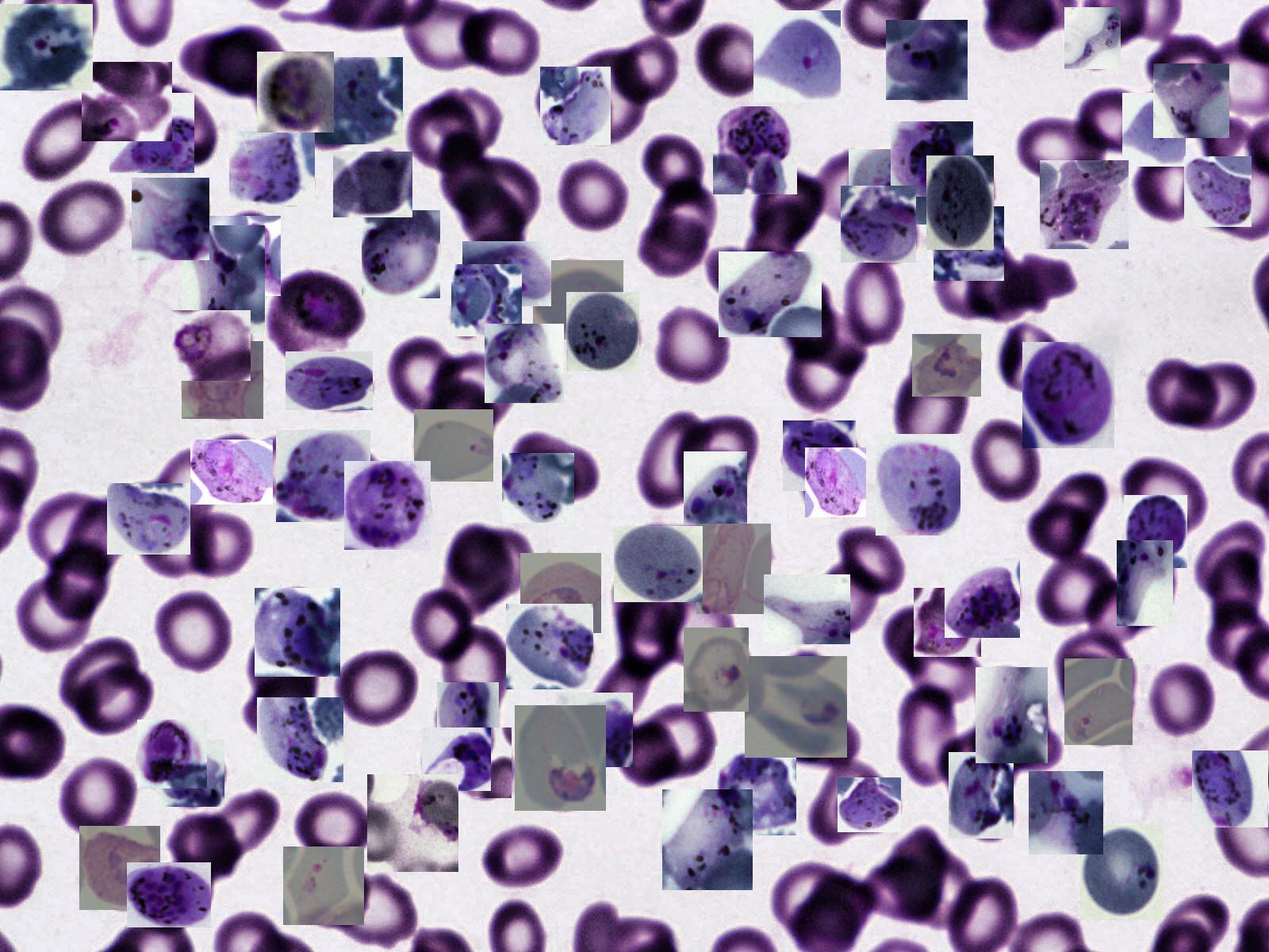Infected: (745, 656, 847, 758), (1022, 342, 1114, 448), (264, 267, 362, 366), (515, 705, 606, 811), (662, 789, 753, 890), (182, 225, 265, 333), (367, 774, 458, 872), (719, 251, 822, 337), (276, 430, 370, 522), (876, 434, 960, 536), (753, 11, 841, 102), (0, 4, 93, 90), (1080, 825, 1164, 920), (1040, 160, 1129, 249), (344, 461, 431, 550), (316, 57, 403, 144), (255, 588, 340, 677), (506, 604, 593, 689), (713, 106, 797, 194), (257, 697, 343, 782), (533, 260, 623, 340), (716, 747, 797, 835), (82, 62, 172, 141), (976, 667, 1048, 763), (362, 210, 440, 298), (79, 826, 160, 910), (109, 93, 194, 173), (614, 526, 703, 602), (696, 524, 771, 614), (886, 20, 968, 100), (520, 553, 601, 633), (926, 155, 994, 250), (283, 846, 364, 925), (229, 131, 315, 205), (182, 341, 263, 419), (132, 178, 209, 260), (485, 324, 564, 403), (891, 121, 973, 197), (257, 52, 334, 132), (1029, 771, 1103, 854), (205, 216, 281, 296), (764, 574, 850, 644), (1064, 658, 1133, 745), (945, 559, 1020, 638), (107, 484, 190, 555), (1192, 750, 1268, 827), (849, 149, 926, 225), (462, 241, 551, 306), (841, 186, 916, 263), (555, 693, 633, 767), (566, 292, 639, 371), (414, 409, 493, 482), (1153, 63, 1229, 138), (949, 752, 1014, 839), (172, 310, 251, 381), (684, 628, 750, 712), (540, 67, 611, 145), (127, 862, 211, 927), (190, 440, 273, 505), (934, 206, 1004, 281), (783, 420, 856, 491), (333, 152, 412, 217), (286, 351, 373, 410), (451, 265, 522, 337), (502, 453, 574, 523), (437, 682, 499, 762), (137, 720, 207, 789), (1184, 156, 1252, 227), (1117, 540, 1173, 626), (1122, 93, 1186, 167), (155, 739, 224, 807), (446, 727, 512, 798), (914, 588, 981, 657), (684, 451, 747, 524), (1124, 495, 1187, 568), (422, 727, 491, 791), (912, 334, 981, 397), (805, 447, 866, 517), (1064, 7, 1121, 69), (838, 777, 901, 832)
Uninfected: (771, 862, 877, 951), (437, 519, 528, 620), (29, 489, 124, 583), (863, 823, 950, 925), (615, 700, 718, 785), (17, 90, 112, 178), (568, 46, 654, 143), (893, 681, 965, 793), (1033, 548, 1126, 633), (322, 866, 415, 951), (617, 564, 682, 685), (37, 176, 128, 262), (776, 328, 869, 412), (634, 411, 714, 508), (426, 355, 520, 437), (747, 164, 822, 265), (1028, 472, 1111, 562), (805, 754, 887, 845), (334, 647, 420, 731), (153, 589, 236, 676), (1015, 112, 1107, 190), (448, 154, 540, 232), (56, 755, 139, 841), (966, 415, 1045, 505), (901, 622, 987, 704), (895, 361, 970, 454), (935, 237, 1022, 317), (811, 152, 891, 238), (652, 303, 731, 387), (148, 443, 225, 529), (294, 789, 376, 869), (443, 626, 511, 722), (694, 21, 773, 102), (508, 428, 598, 499), (440, 129, 511, 219), (14, 575, 98, 651), (197, 791, 281, 867), (454, 2, 539, 77), (1121, 462, 1210, 533), (209, 24, 290, 102), (175, 506, 255, 584), (1144, 659, 1219, 742), (970, 708, 1068, 770), (990, 321, 1066, 400), (676, 417, 756, 492), (151, 79, 216, 171), (1125, 148, 1209, 219), (601, 35, 679, 111), (1060, 636, 1136, 714), (59, 639, 138, 714), (556, 156, 631, 235), (656, 517, 747, 582), (702, 244, 798, 305), (827, 524, 905, 599), (76, 663, 156, 736), (1194, 516, 1265, 597), (388, 339, 458, 421), (412, 585, 483, 665), (1075, 90, 1152, 163), (1176, 362, 1257, 428), (462, 183, 533, 258), (844, 256, 901, 349), (1146, 357, 1220, 428), (248, 635, 324, 704), (634, 214, 712, 281), (483, 828, 564, 892), (410, 98, 481, 171), (1084, 577, 1160, 644), (642, 130, 715, 199), (1145, 34, 1229, 93), (168, 814, 240, 882), (240, 677, 317, 740), (179, 29, 258, 90), (991, 258, 1080, 312), (427, 84, 502, 148), (966, 257, 1037, 321), (884, 604, 948, 674), (654, 178, 714, 252), (819, 557, 880, 629), (290, 93, 365, 147)
